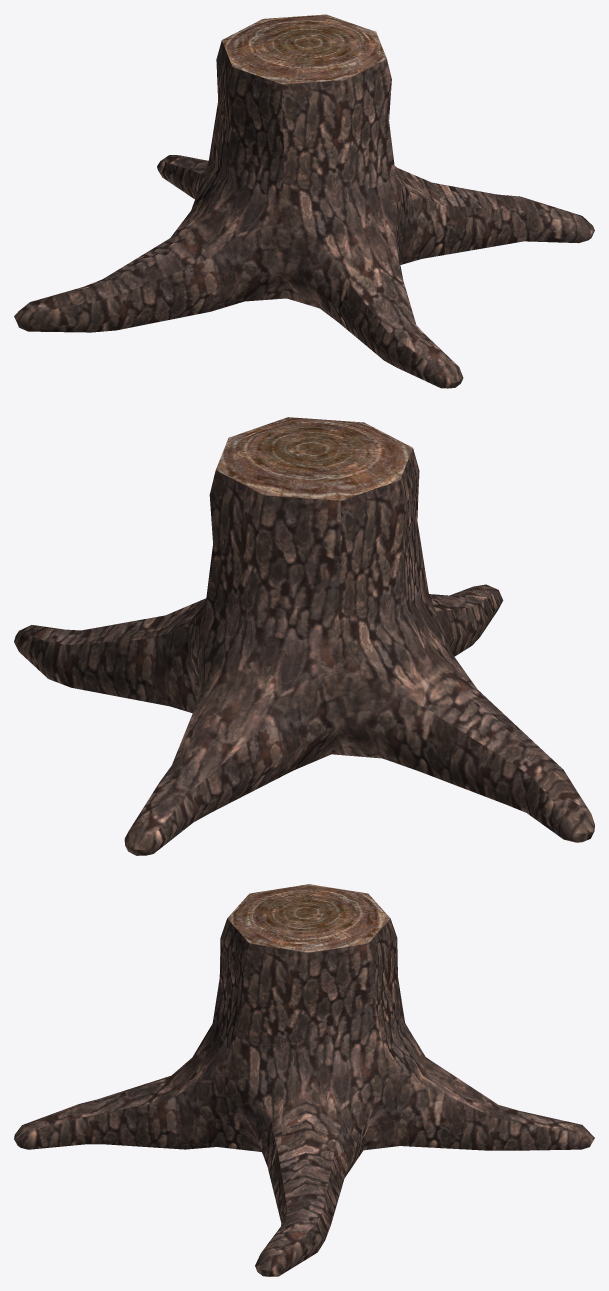
The model's file is tree trunk.fbx.
3 renders of one model, top to bottom at view 1: azimuth 30°, elevation 25°; view 2: azimuth 150°, elevation 25°; view 3: azimuth 270°, elevation 25°, orthographic. The views are drawn at different scales.
Visible parts, largest first — view 1: Plane; view 2: Plane; view 3: Plane.
Boxes of the visible parts, x1,y1,x2,y2 form: Plane: (14, 14, 594, 388); Plane: (14, 417, 594, 855); Plane: (14, 884, 594, 1276).
Bounding box in the file's own units: 195 × 86.97 × 189.
Materials: 1 (1 with a texture image).
